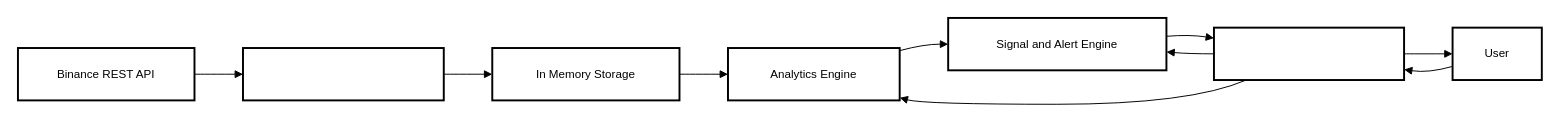
Image size: 1559x121. Some labels were removed from this diagram. The box of each missing label's shape, as (x1, y1, x2, y2) in pixels:
Data Ingestion Layer: (242, 47, 444, 101)
Streamlit Frontend: (1212, 26, 1405, 81)
